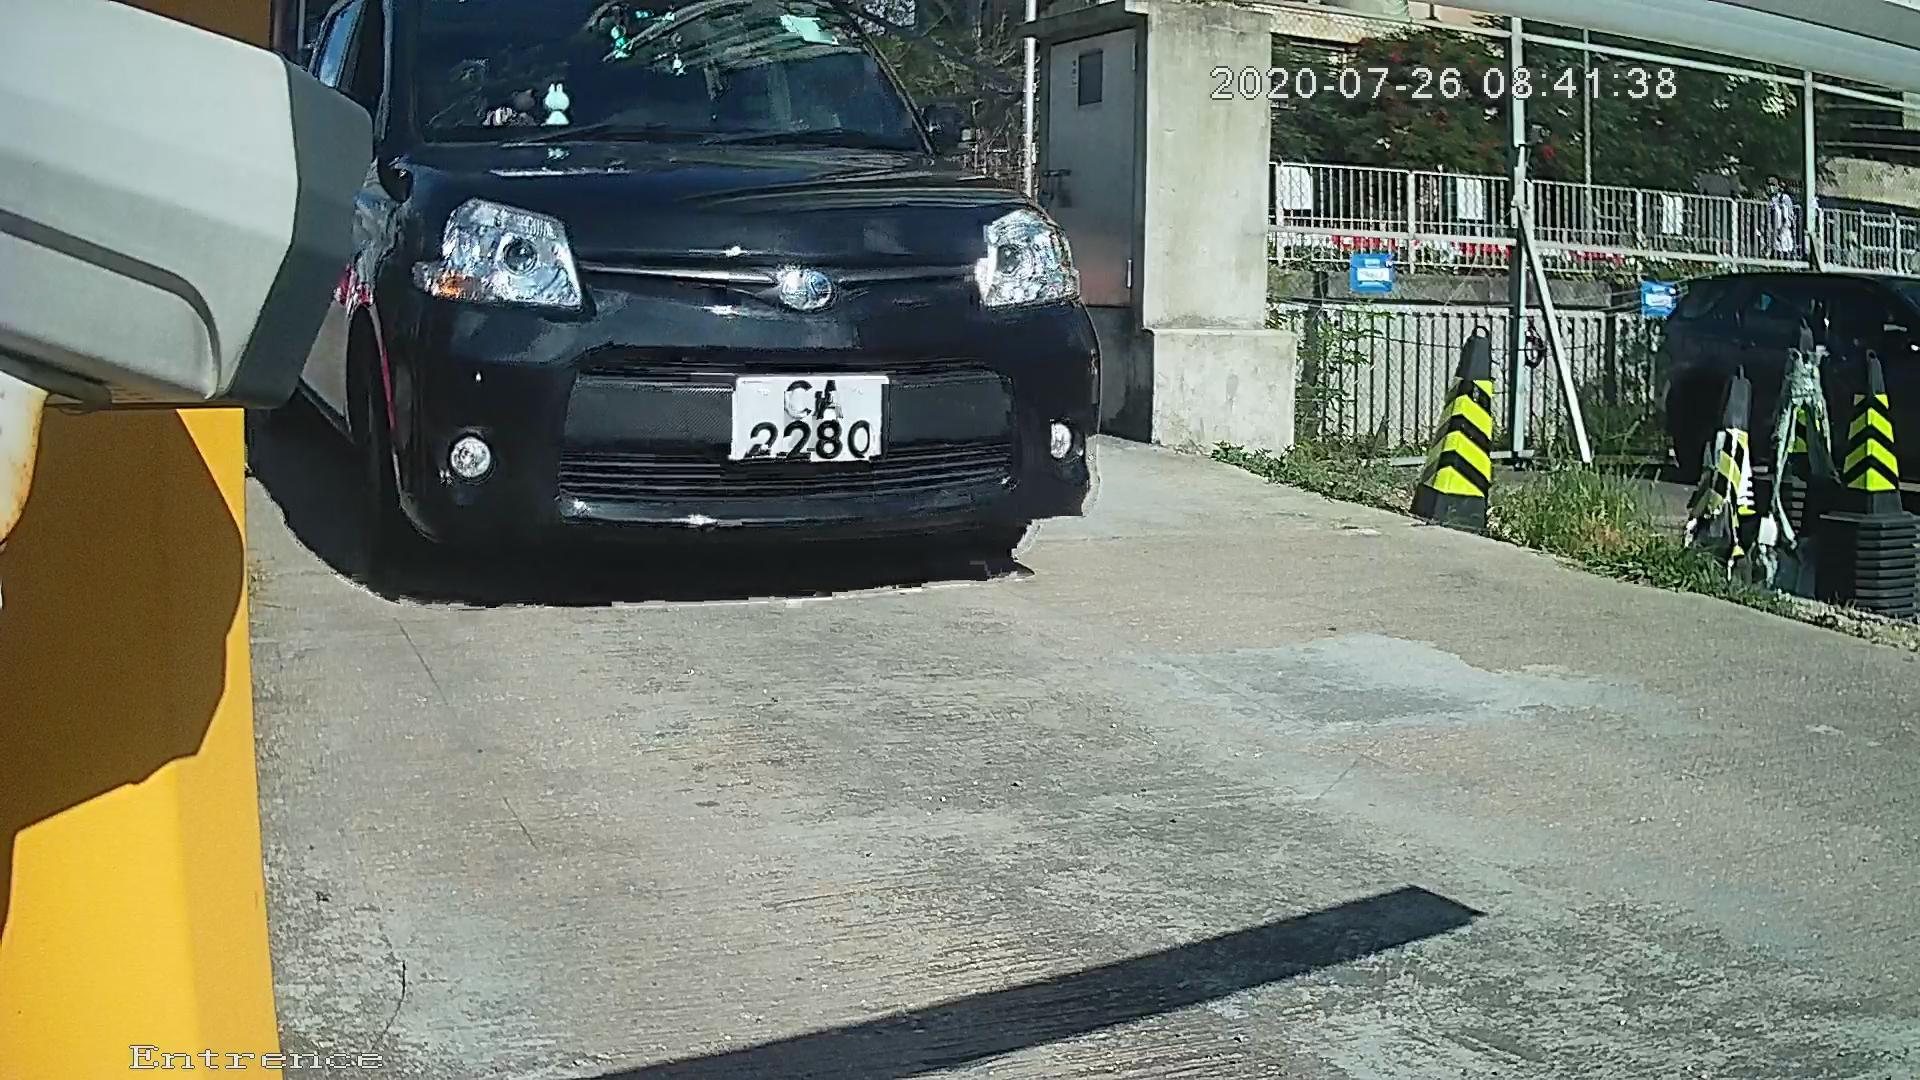privatecar: (206, 11, 1269, 589)
